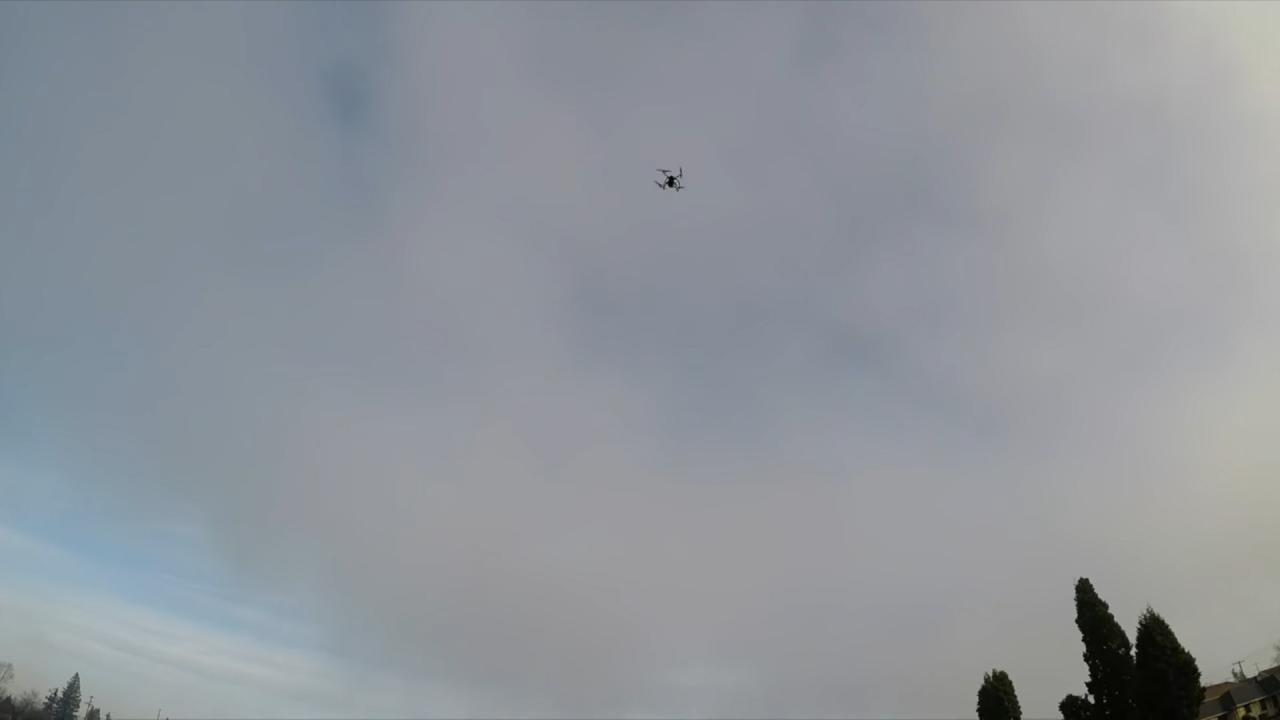Drone: (646, 159, 691, 200)
